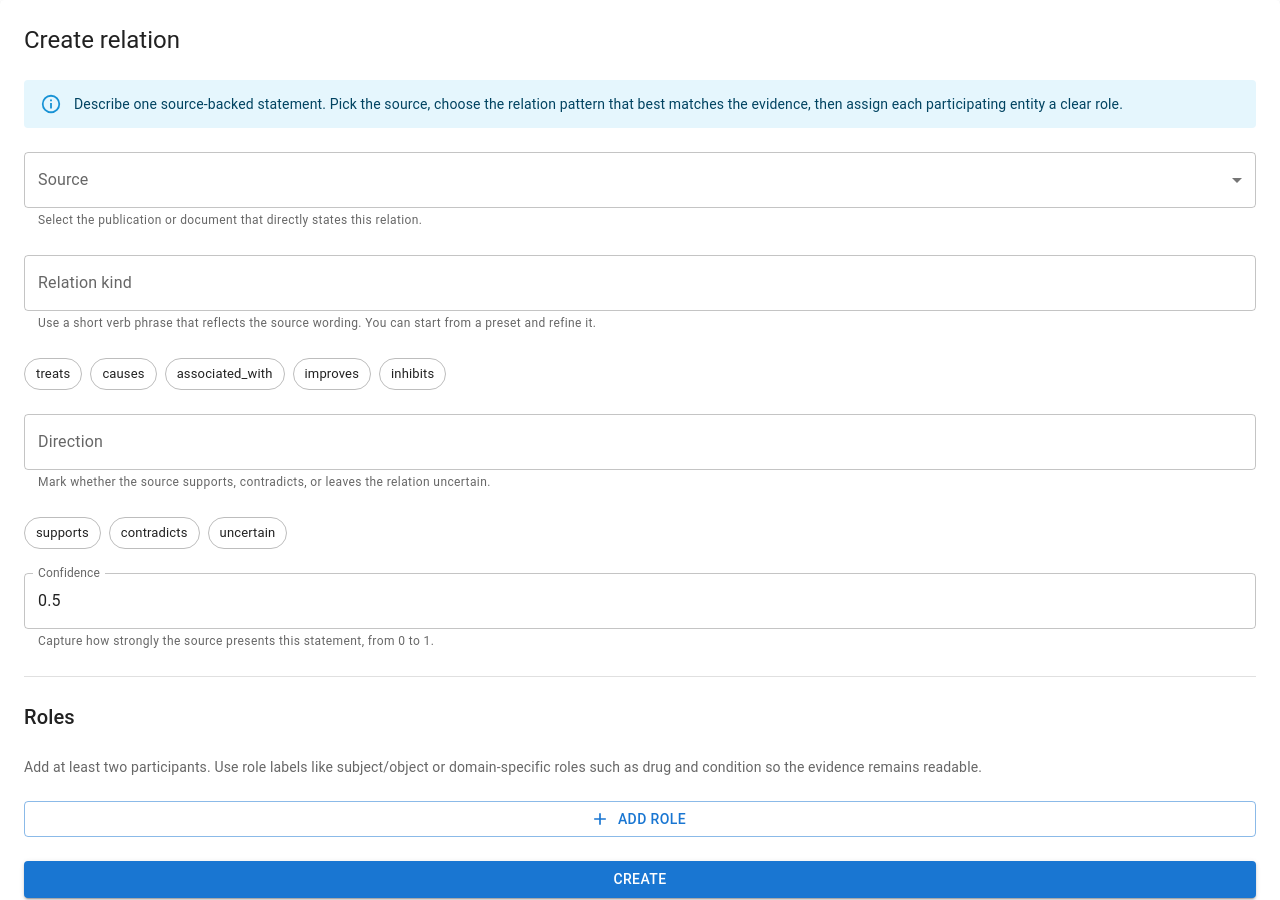
CreateRelationView › Role management › updates role entity
Click the button "Add role" at x=640, y=819, box [24, 801, 1256, 837]
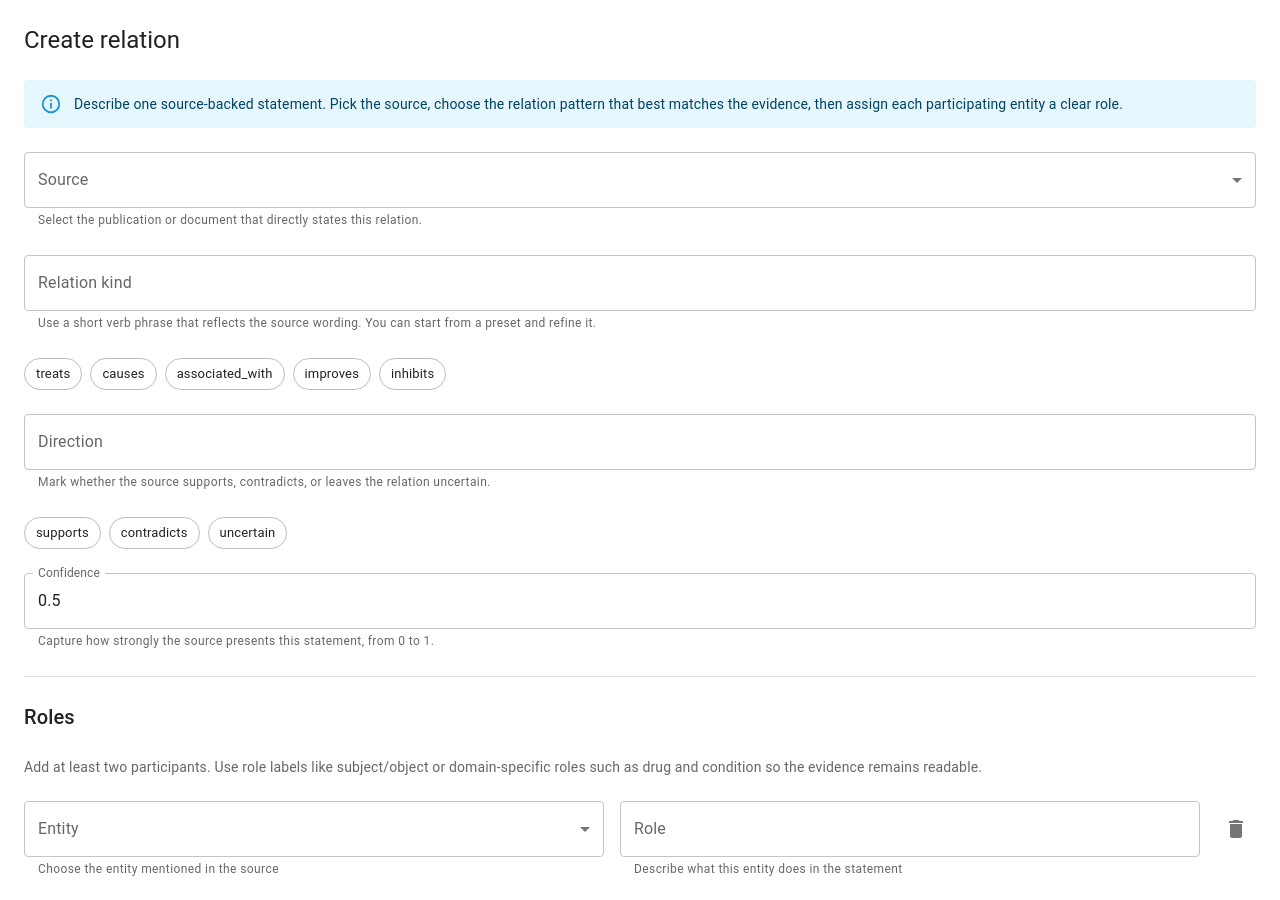
Press the mouse on the 2nd dropdown named "entity" at x=314, y=829, box [24, 801, 604, 857]
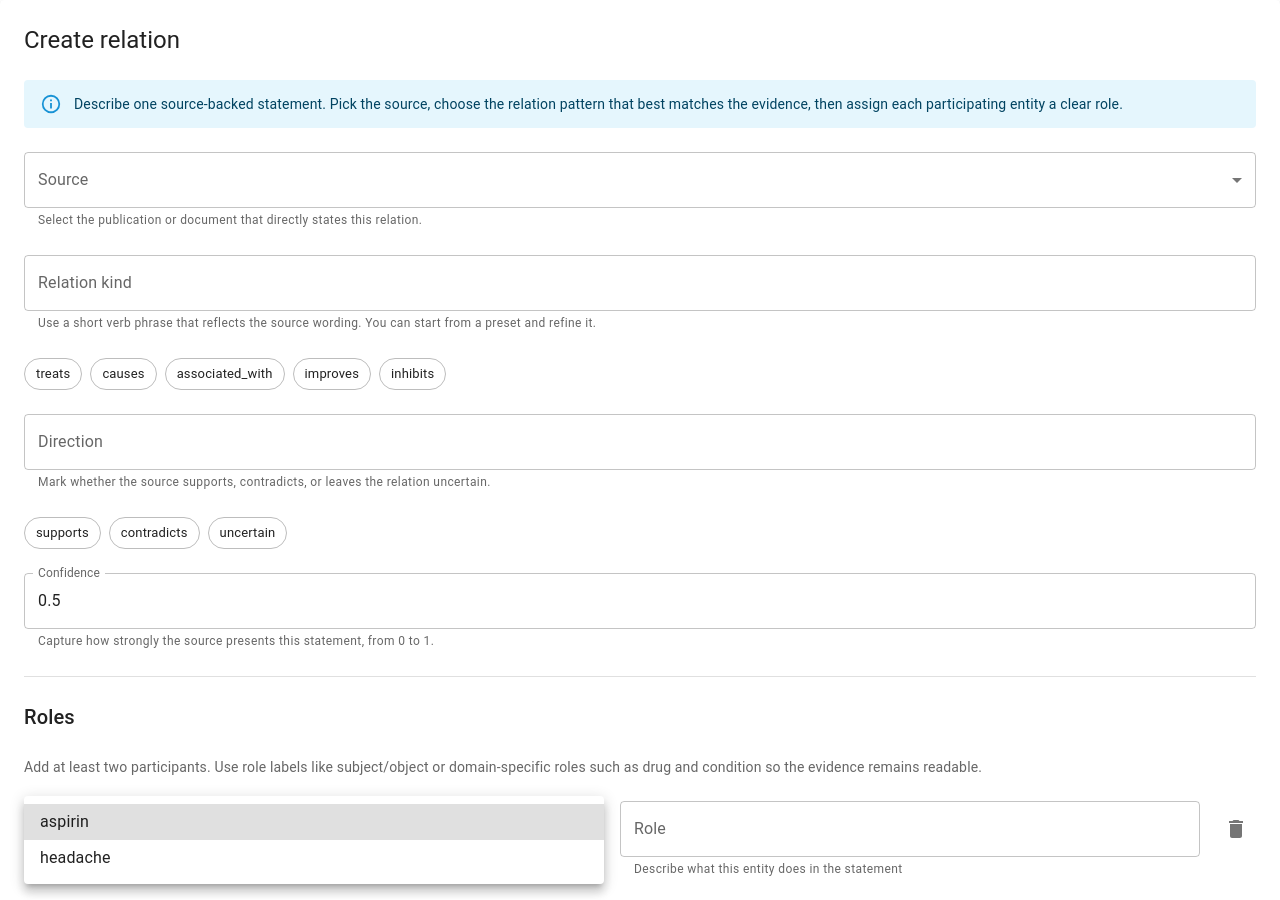
Click the option "aspirin" at x=65, y=822, box [24, 804, 604, 840]
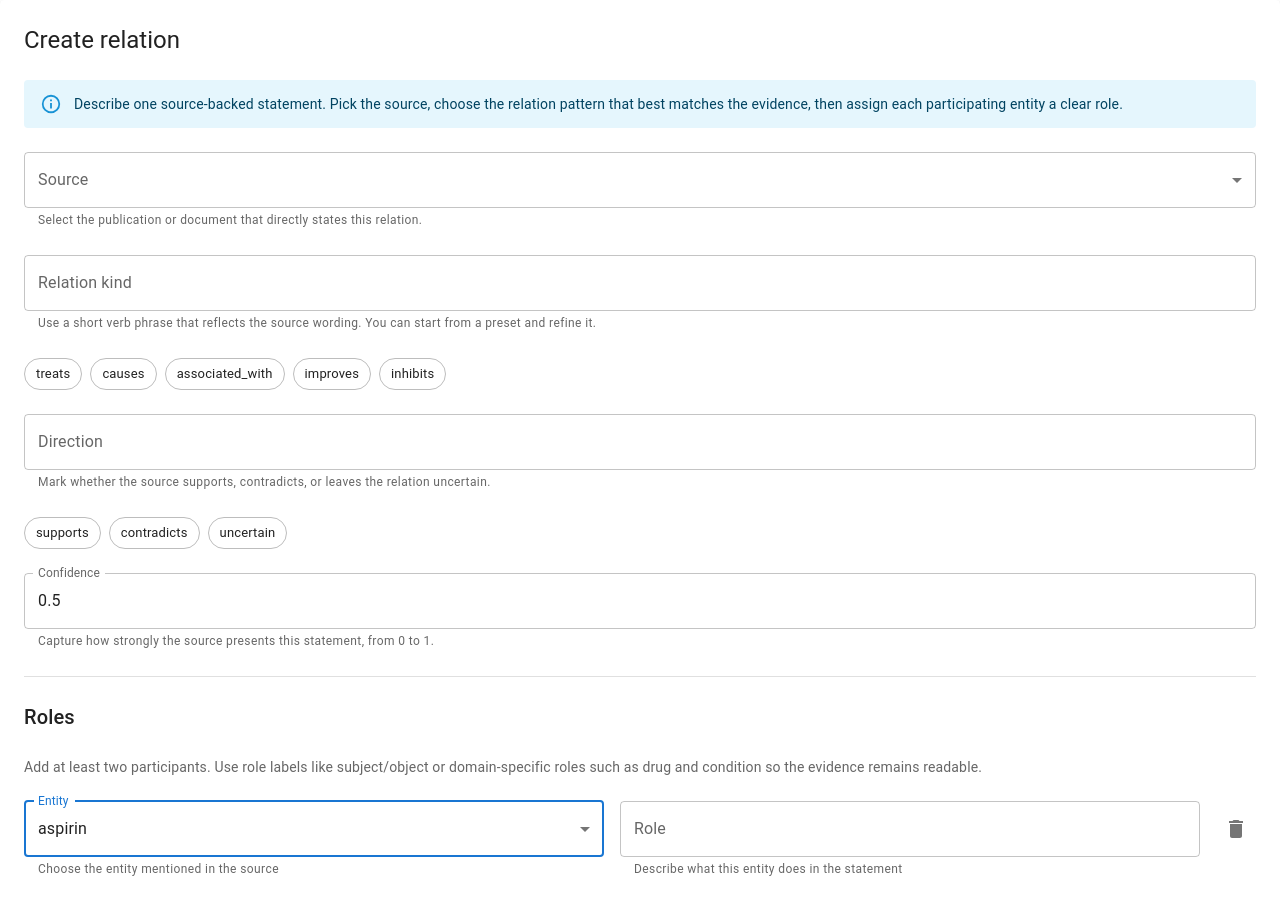
expect the dropdown "aspirin" is shown: met, box [38, 819, 87, 838]
